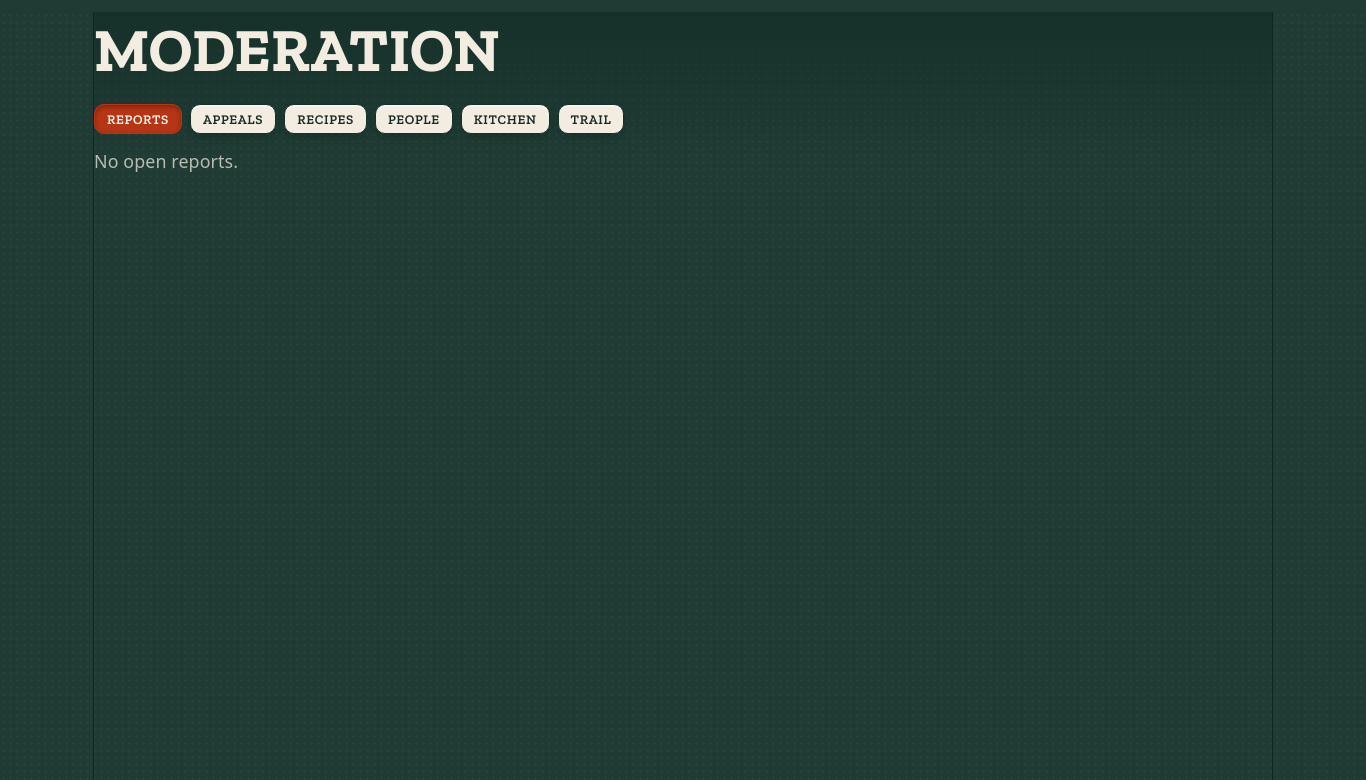
Test case: keeps the row and shows the message when a resolve fails
The image size is (1366, 780).
Step 1. Click the button "Appeals" → (233, 119), box [190,104,276,134]
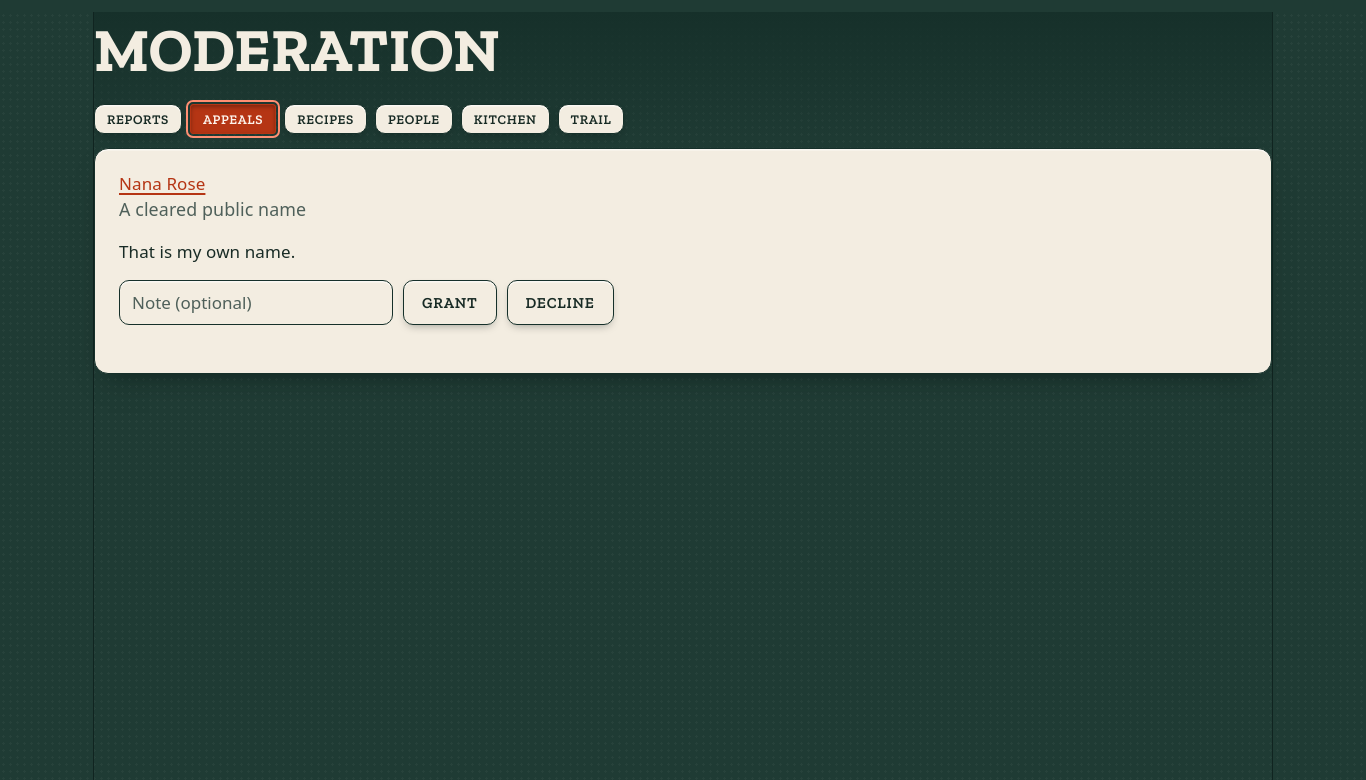
Step 2. Click the button "Grant" → (450, 303), box [403,280,496,325]
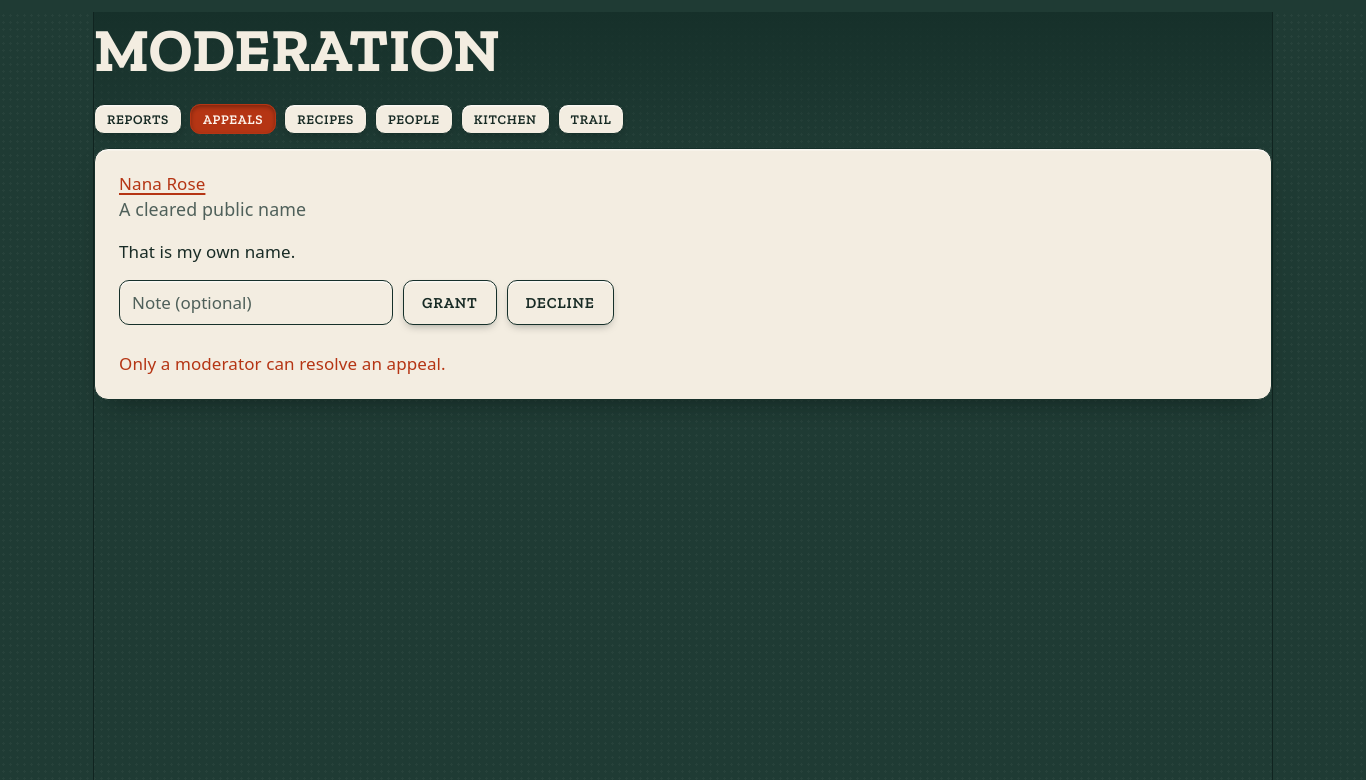
Now the text "That is my own name." is shown, box [119,240,295,263]
Now the text "Only a moderator can resolve an appeal." is shown, box [119,352,446,375]
